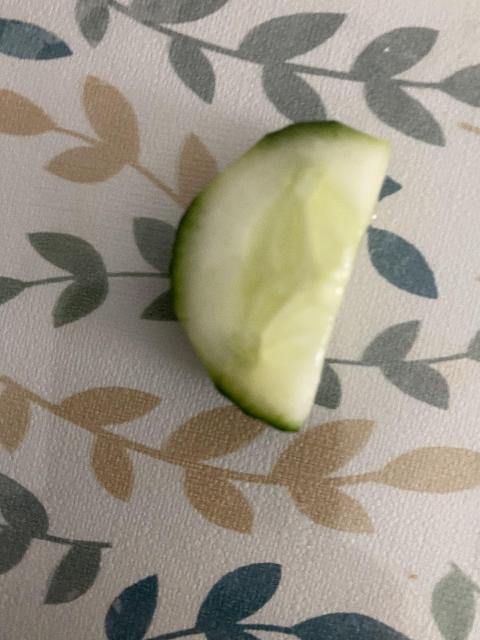Organik: (165, 117, 403, 430)
